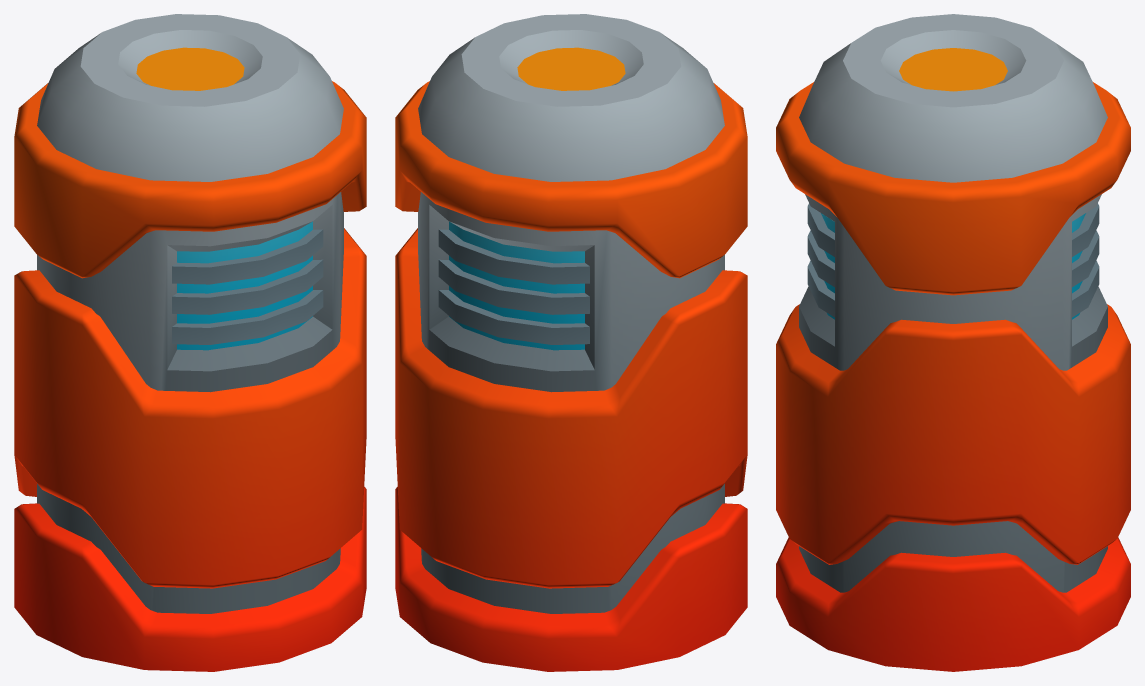
Rendered from obstacle_12_001.fbx.
3 views of the same model, side by side, from view 1: azimuth 30°, elevation 25°; view 2: azimuth 150°, elevation 25°; view 3: azimuth 270°, elevation 25° (orthographic).
Visible parts, largest first — view 1: obstacle_12_001; view 2: obstacle_12_001; view 3: obstacle_12_001.
Boxes of the visible parts, x1,y1,x2,y2 form: obstacle_12_001: (14, 14, 366, 671); obstacle_12_001: (395, 14, 747, 671); obstacle_12_001: (776, 14, 1130, 671).
Size of the model in its own units: 152 by 152 by 253.
